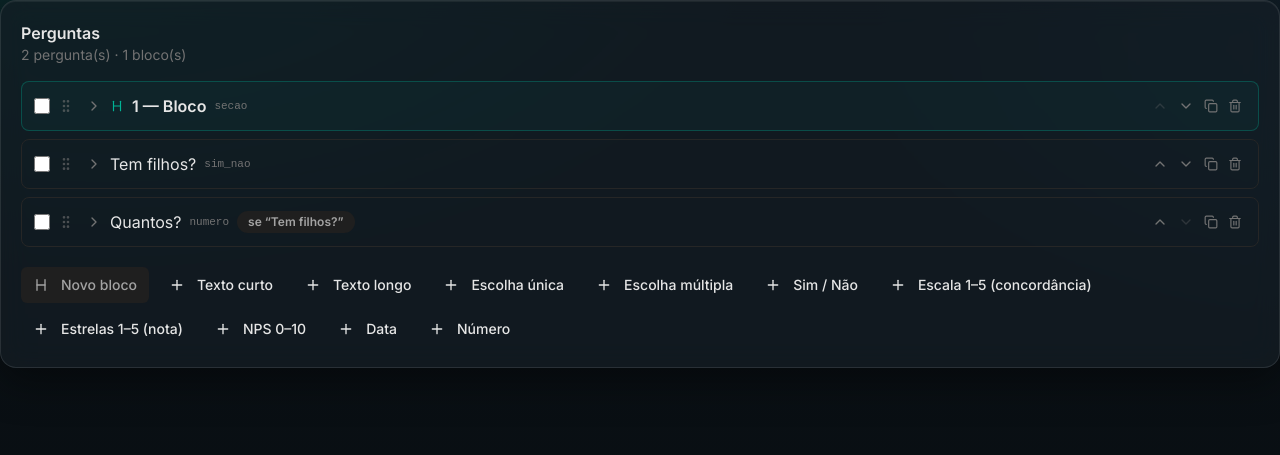
Test case: construtor · protege as condicionais › a UI apaga as selecionadas e o botão de salvar aparece
This screenshot has width=1280, height=455.
Click the checkbox named "Selecionar “Tem filhos?”": (42, 164) 34,156 -> 50,172
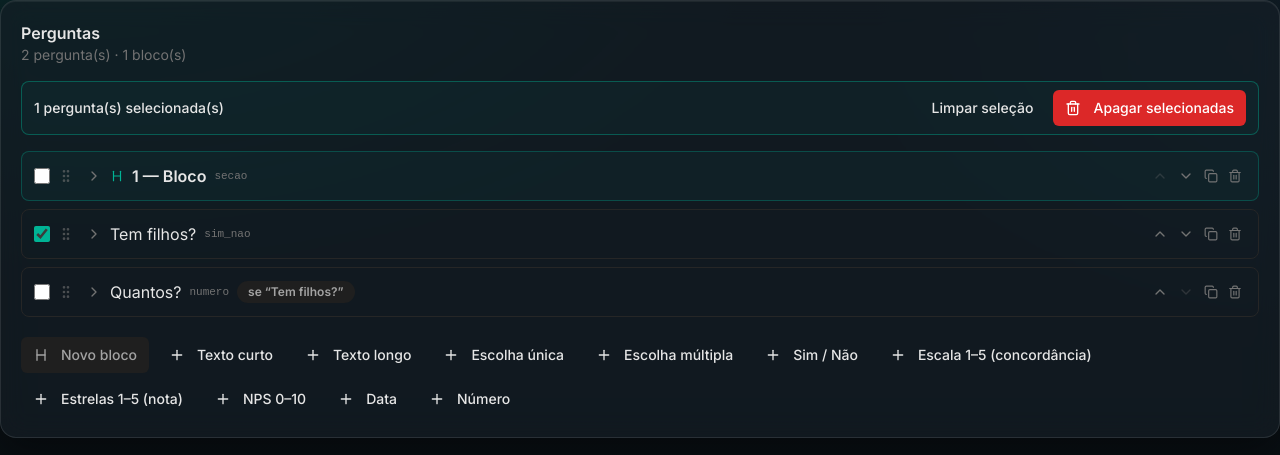
Click the checkbox named "Selecionar “Quantos?”": (42, 292) 34,284 -> 50,300
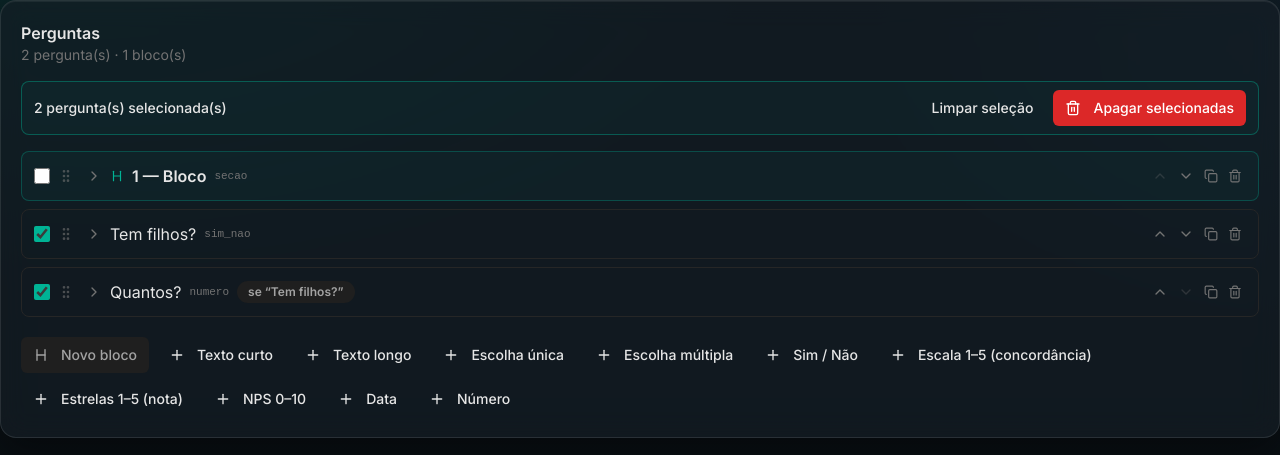
Expected: the text "2 pergunta(s) selecionada(s)" is shown, 34,98 -> 227,118
Click the button "Apagar selecionadas": (1150, 108) 1054,90 -> 1246,126
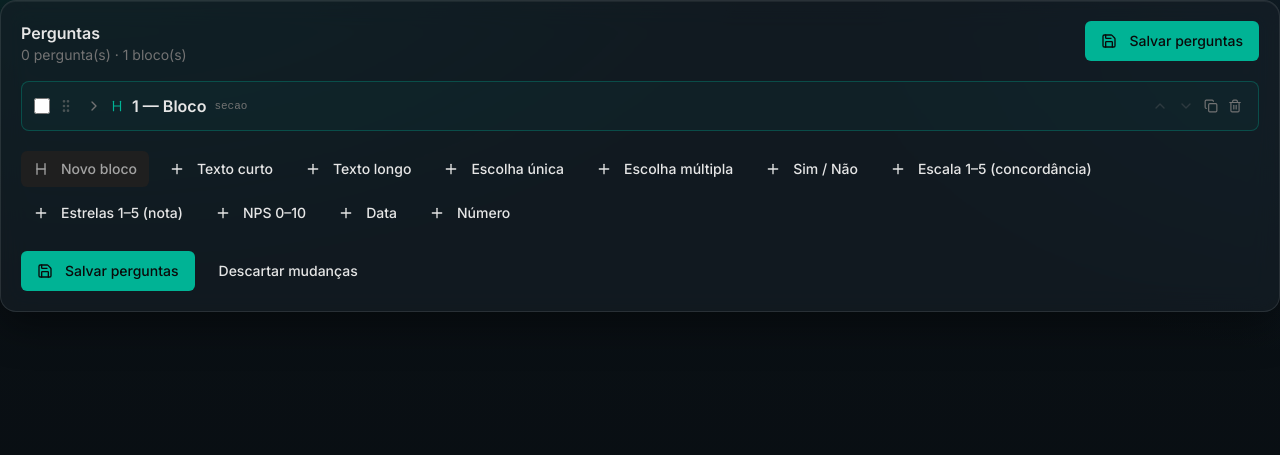
Expected: the button "Tem filhos?" is gone
Expected: the button "Quantos?" is gone
Expected: the button "Salvar perguntas" in the row of "bloco(s)" is shown, 1086,21 -> 1259,61
